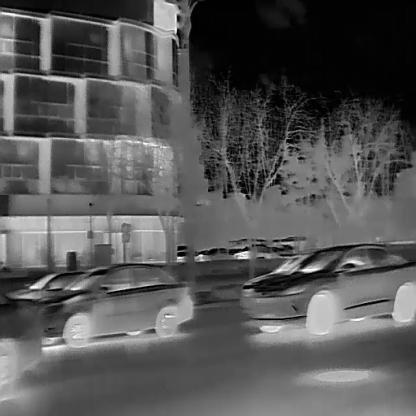car: (240, 242, 416, 336), (34, 260, 192, 347), (235, 243, 276, 257)
